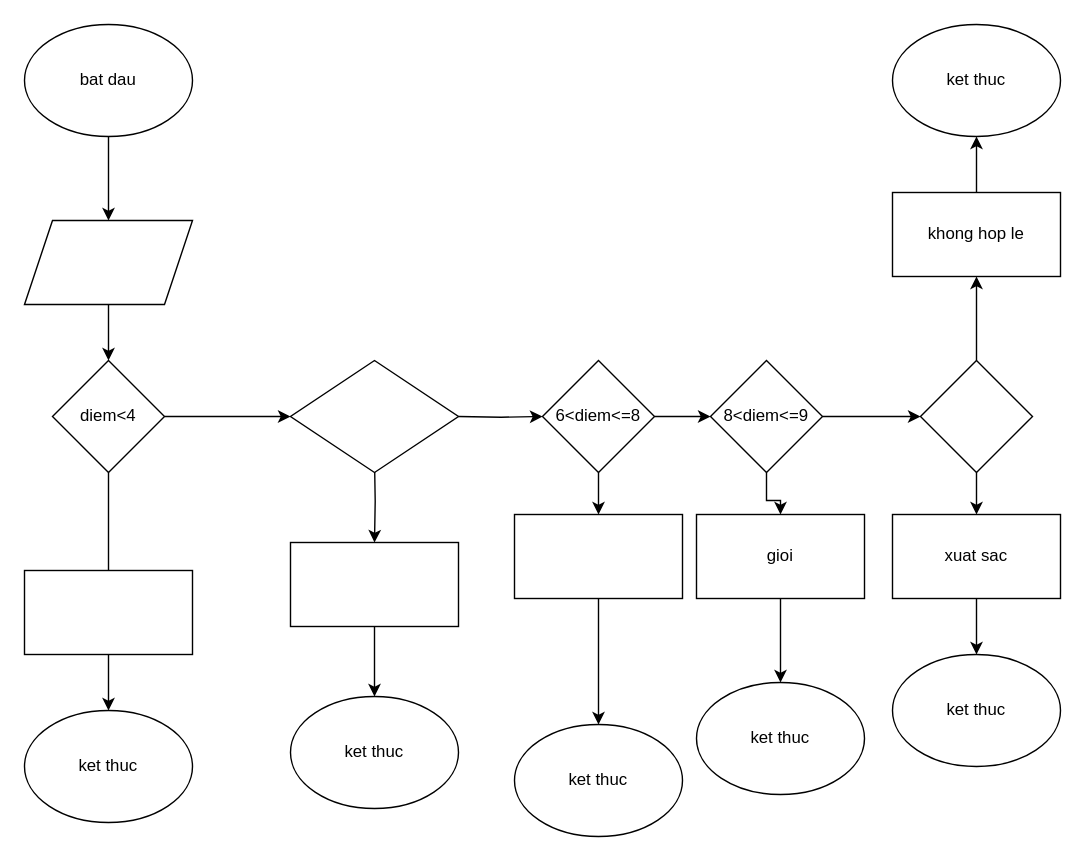
The diagram is 1085 pixels wide and 861 high, and some of its shapes have lost their labels. Here are the shapes that lost their labels. From the top down, the box of each, then its label:
(23, 219, 192, 304): nhap diem
(289, 359, 458, 472): 4<=diem<=6
(919, 359, 1032, 472): 9<diem<=10
(513, 513, 682, 598): kha
(289, 541, 458, 626): trung binh
(23, 569, 192, 654): khong dat
